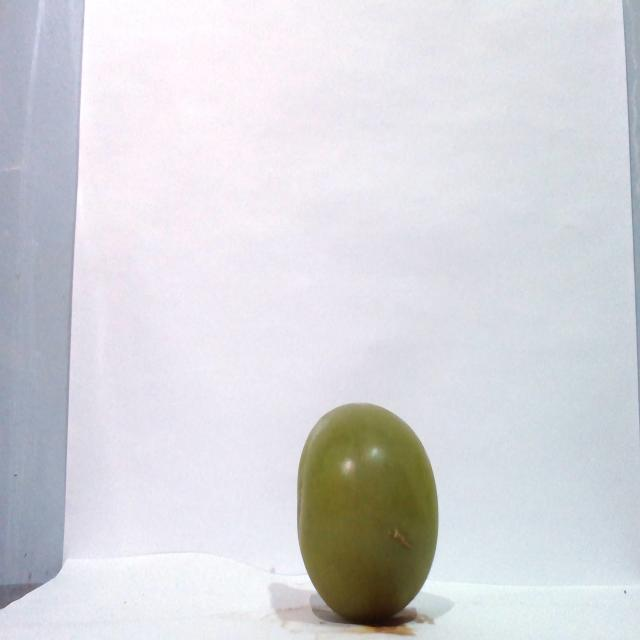Red: (295, 400, 439, 622)
